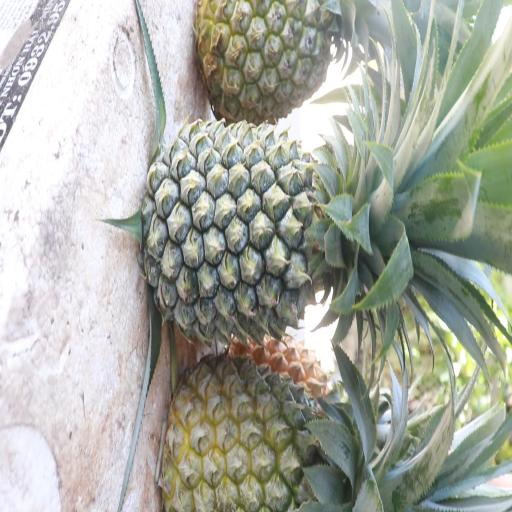------------------------------: (158, 357, 345, 512), (196, 0, 347, 124)
